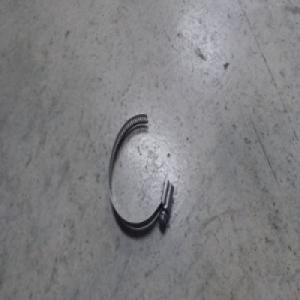AdjustableClamp: (102, 113, 170, 232)
